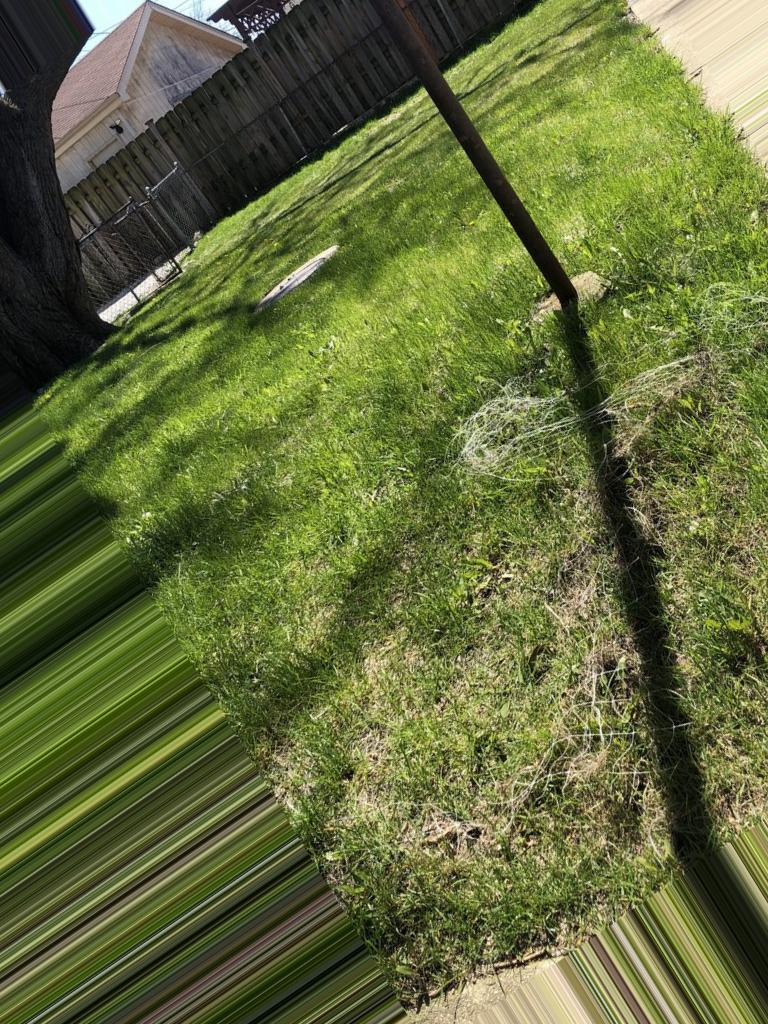patch: (434, 813, 505, 841), (467, 644, 512, 679), (556, 587, 593, 622)
